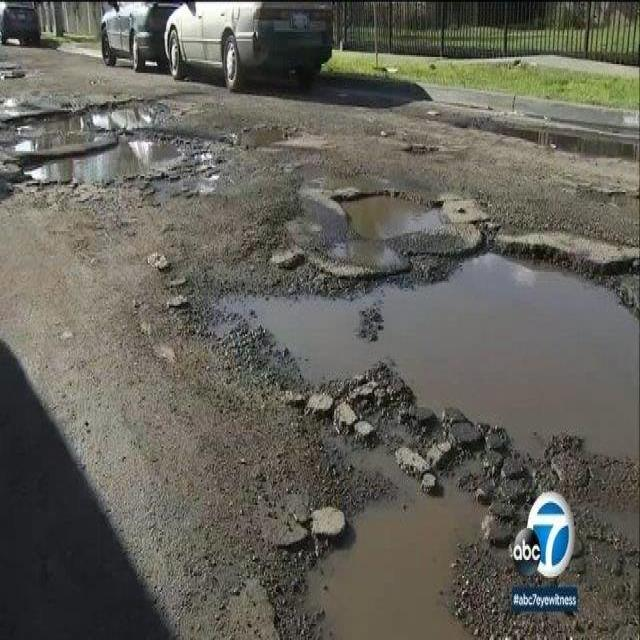lubang: (218, 242, 639, 462), (258, 450, 499, 638), (2, 133, 214, 202), (426, 104, 639, 168), (1, 85, 202, 151), (576, 468, 640, 636), (329, 179, 454, 265), (240, 117, 326, 154), (374, 125, 455, 164), (578, 177, 640, 220), (466, 208, 512, 248), (0, 51, 26, 83)
